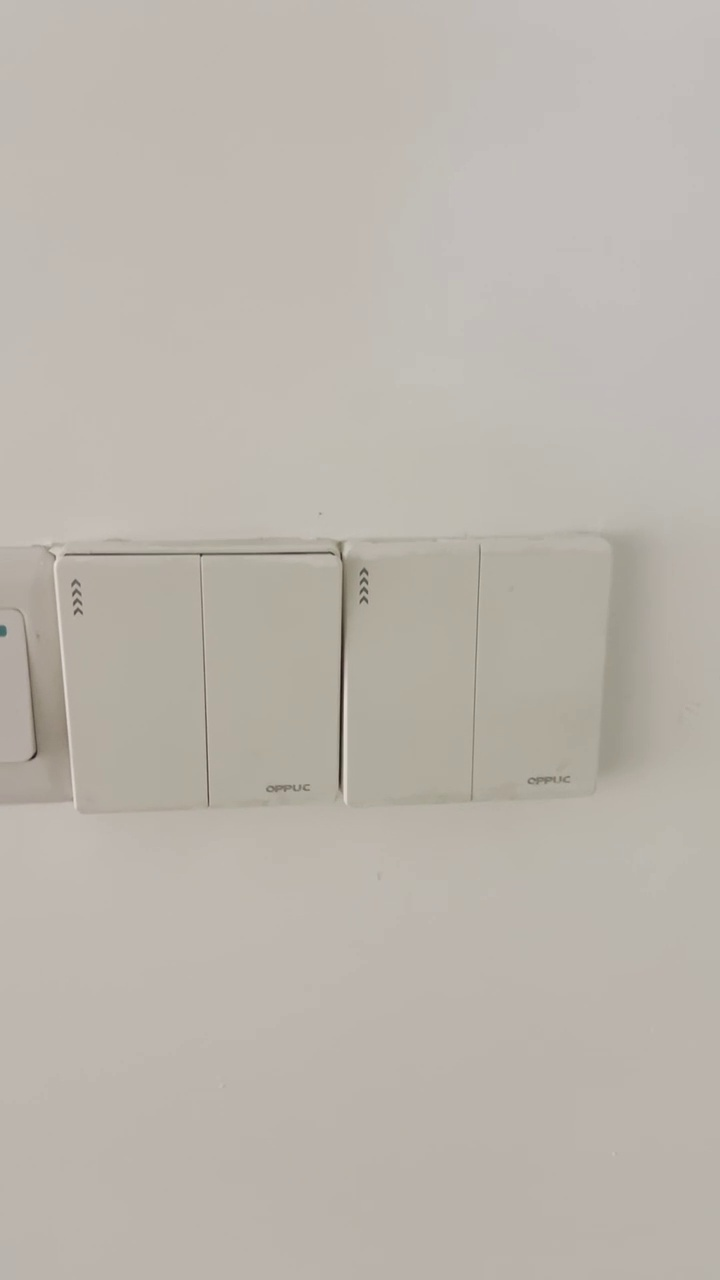button1: (64, 560, 203, 814), (206, 563, 338, 807), (351, 550, 474, 796), (479, 554, 599, 788)
